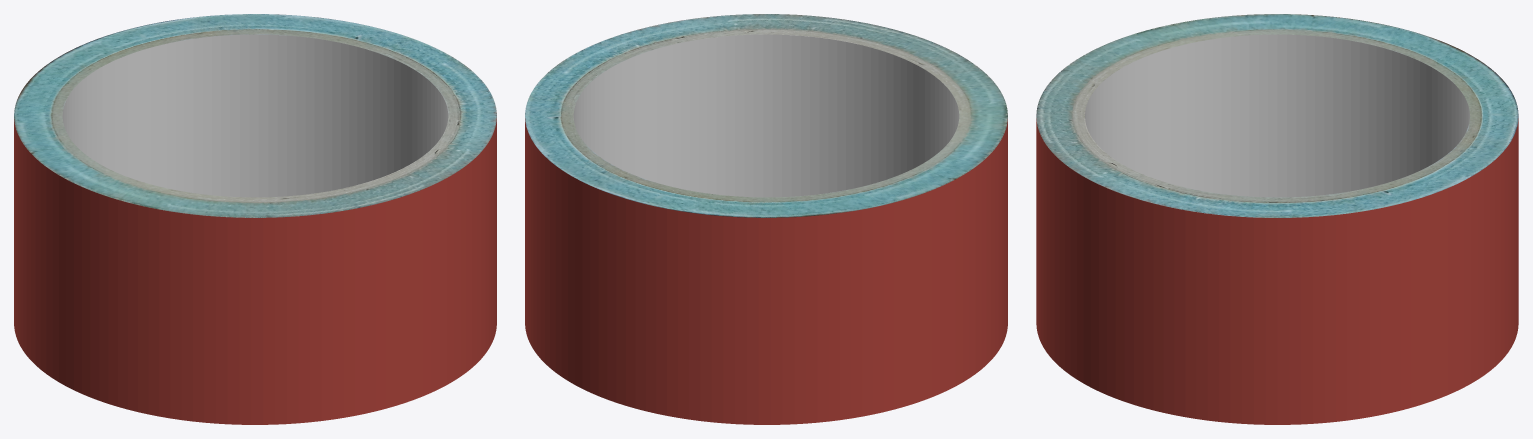
Rendered from stationery.glb.
3 renders of one model, left to right at view 1: azimuth 30°, elevation 25°; view 2: azimuth 150°, elevation 25°; view 3: azimuth 270°, elevation 25°, orthographic.
Parts seen in each view (by area): view 1: Cylinder.001; view 2: Cylinder.001; view 3: Cylinder.001.
Part boxes in pixels (x1,y1,x2,y2): Cylinder.001: (14, 14, 496, 424); Cylinder.001: (525, 14, 1007, 424); Cylinder.001: (1036, 14, 1518, 424).
Bounding box in the file's own units: 0.9985 × 0.4723 × 0.9974.
5 materials, 3 textured.
